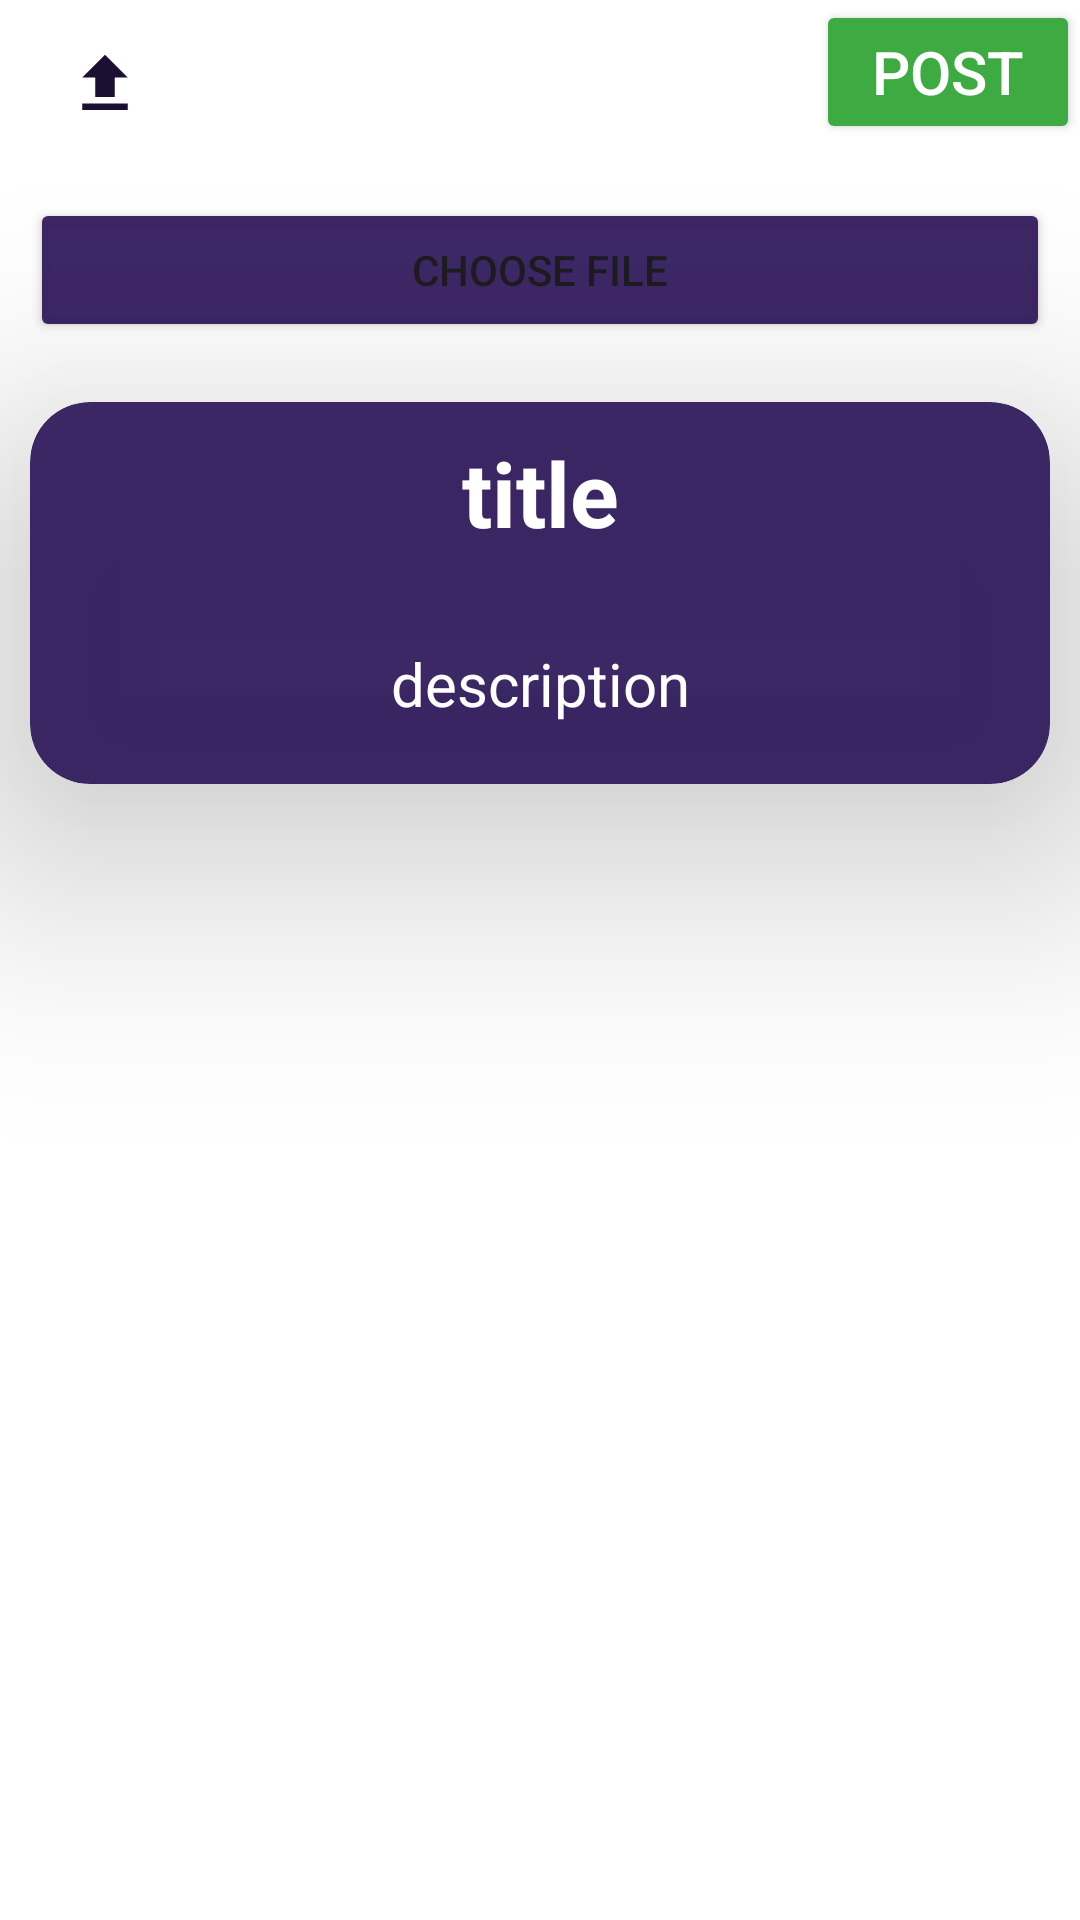

Named icons in this screenshot (1080px x 1920px) and their centers, point (x, y):
file upload: point (105, 82)
